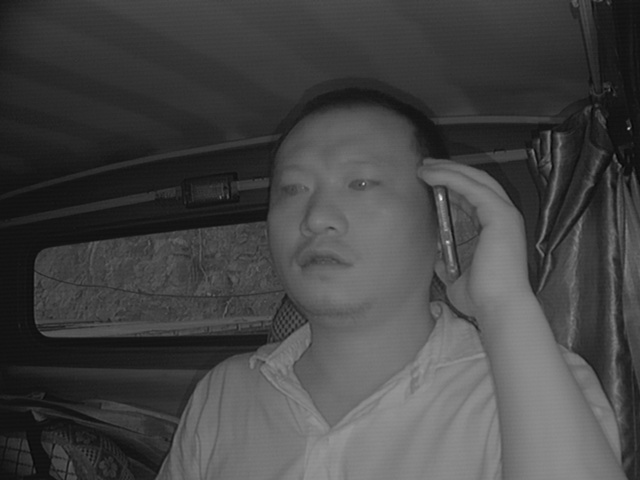hand: (406, 151, 529, 325)
